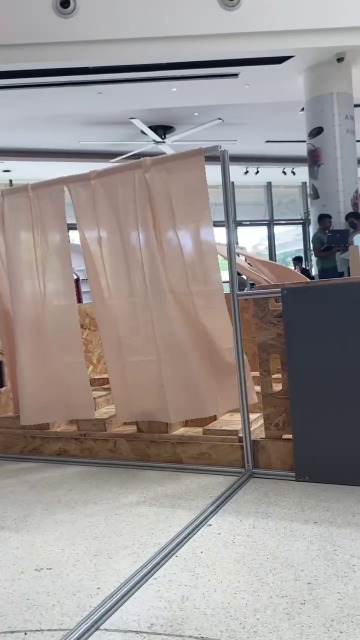curtain: (7, 141, 245, 435)
